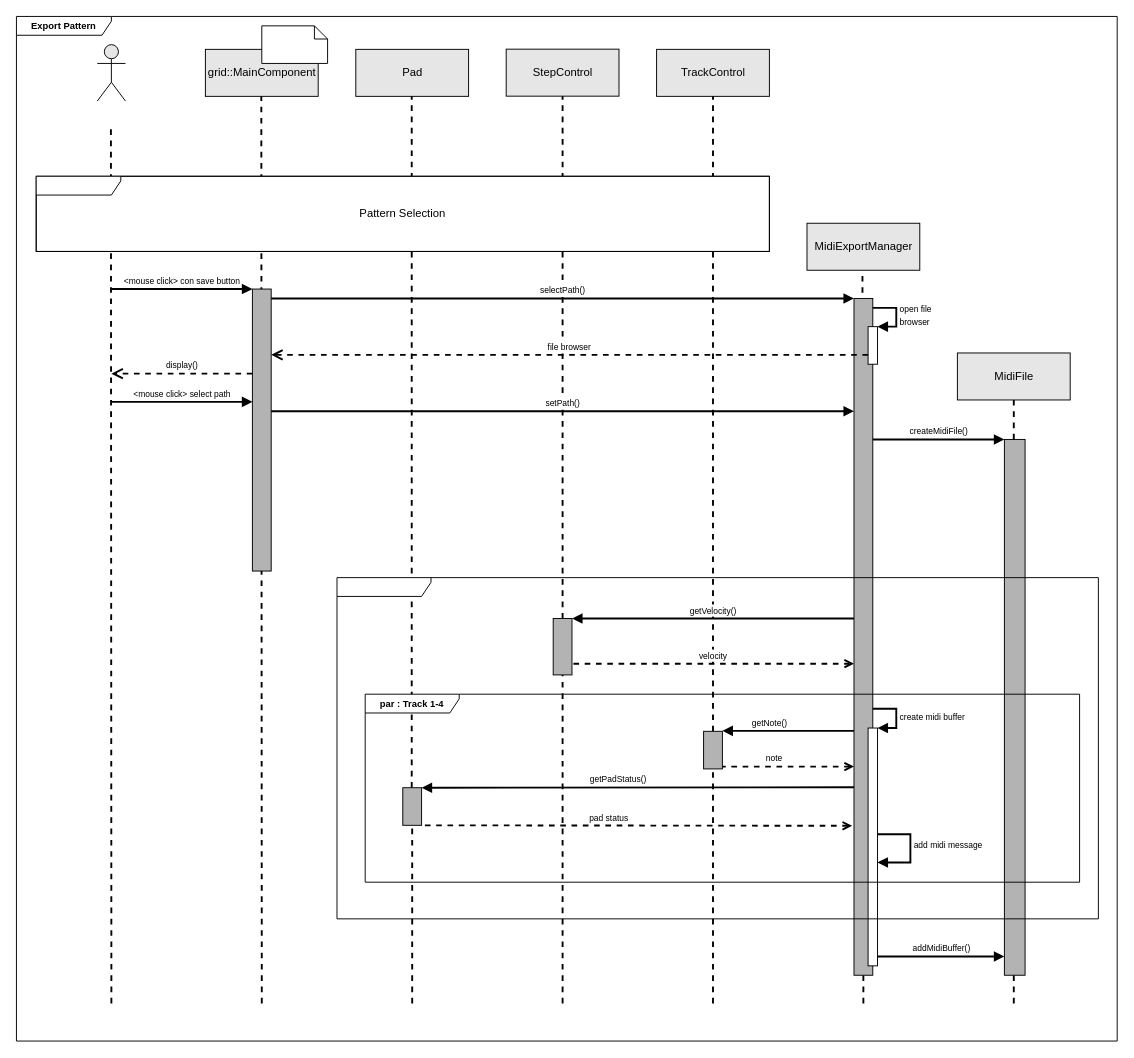
This 1134x1058 diagram has some shape labels left out. Each missing label, with the centre of its shape:
":User" goes at pixel 110 72.
"GUI" goes at pixel 294 44.
"par : Step 1-16" goes at pixel 717 748.
"ref" goes at pixel 402 213.
